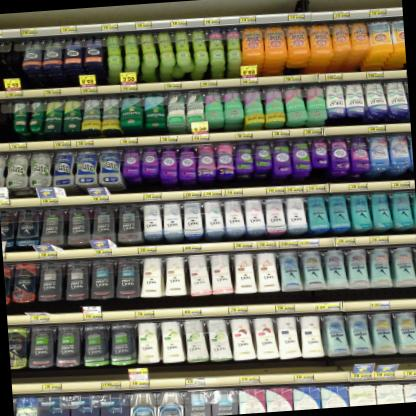empty_space: (3, 37, 28, 91), (0, 102, 14, 143), (0, 39, 5, 93)
